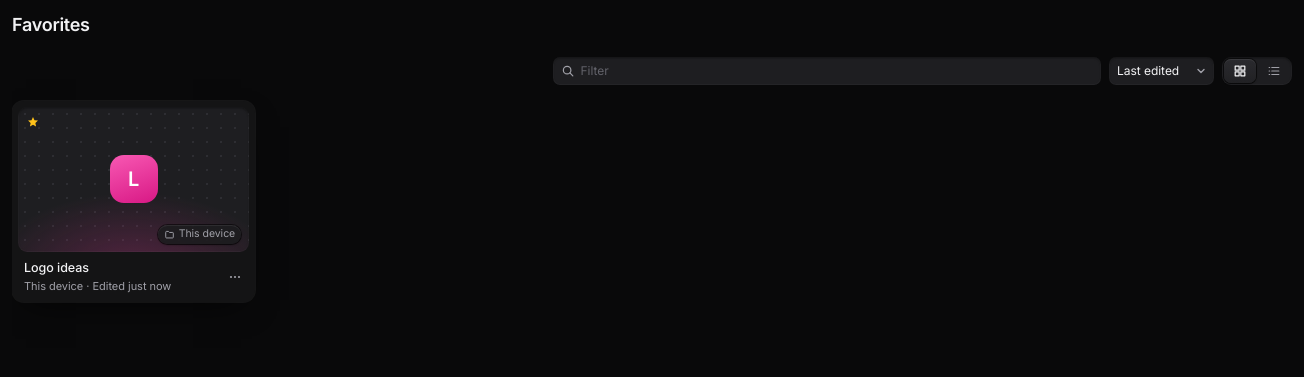
Test: recents and favorites › lists the favorites of this device without an account, and takes one off from its menu
Expected: the number of buttons named "Open " is 1, [24, 259, 217, 294]
Click the button named "More actions for Logo ideas" at (235, 277), box [221, 263, 249, 291]
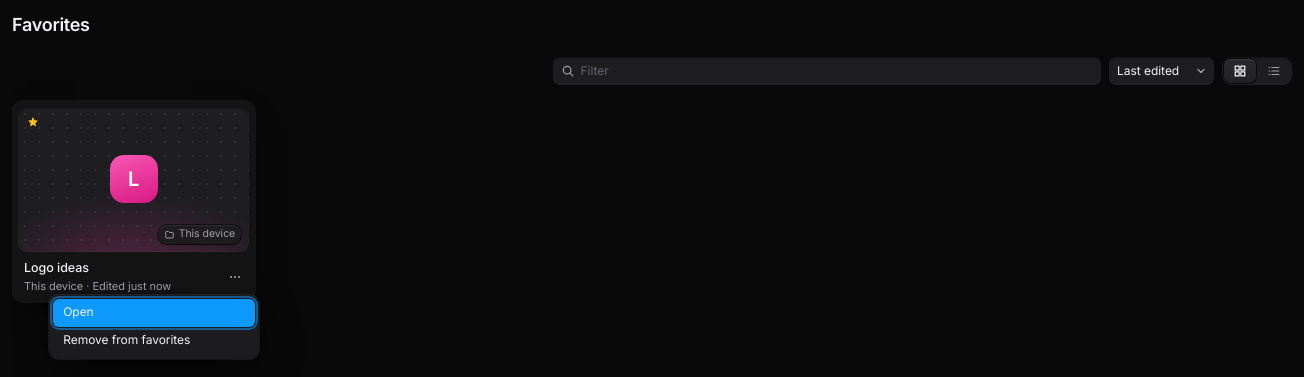
Click the menu item "Remove from favorites" at (154, 341), box [53, 327, 255, 355]
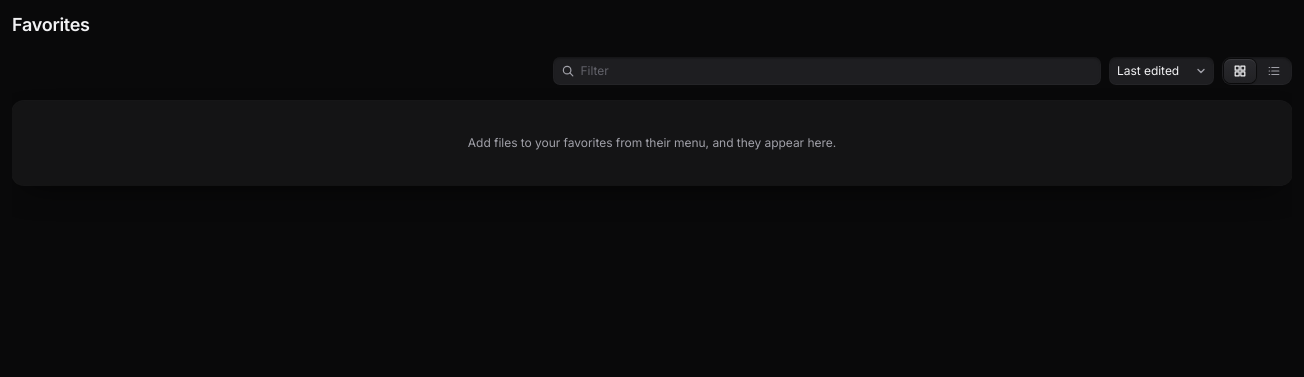
Expected: the text "Add files to your favorites from their menu, and they appear here." is shown, [12, 101, 1292, 185]
